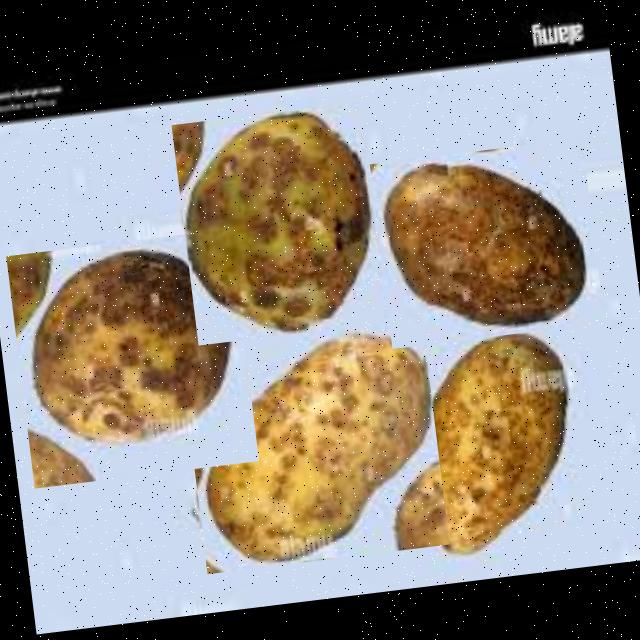Diseased-fungal potato: (179, 316, 449, 574), (6, 228, 259, 488), (171, 102, 385, 345), (398, 321, 590, 578), (370, 138, 604, 348)
